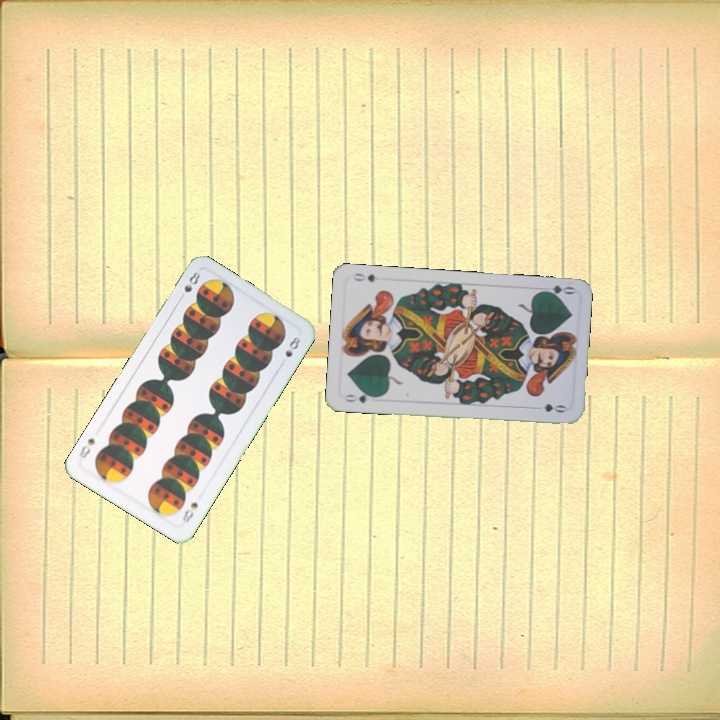GO: (535, 281, 576, 300), (340, 389, 381, 406)
S8: (178, 498, 201, 526), (180, 268, 203, 295)
